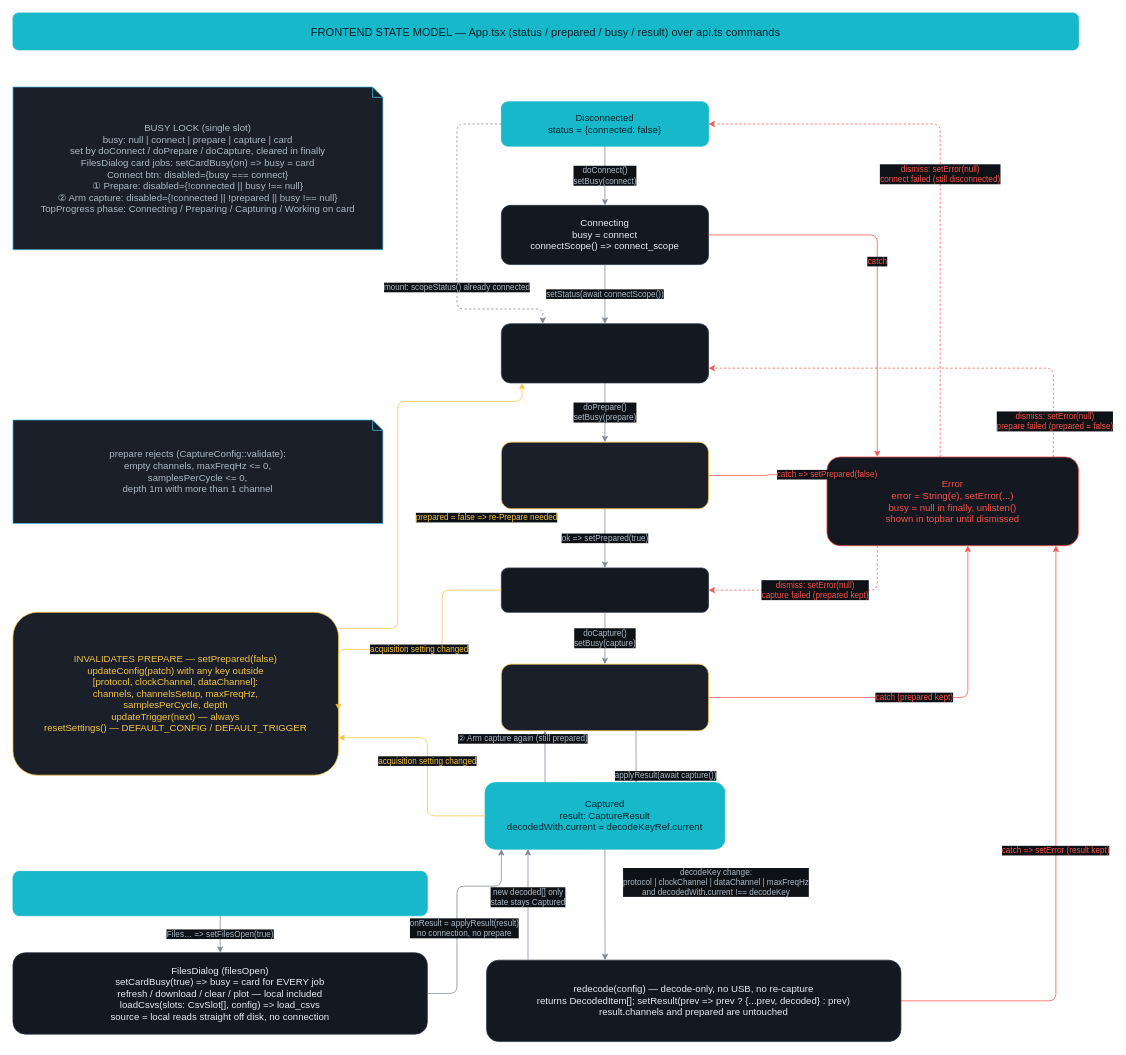
The diagram is 1126 pixels wide and 1055 high, and some of its shapes have lost their labels. Each missing label, with the centre of its shape:
"Capturing busy = capture capture() => capture cmd onProgress(capture:progress)" goes at (605,697).
"Connected status.connected = true prepared = false" goes at (605,353).
"Prepared prepared = true" goes at (605,589).
"Preparing busy = prepare prepare(config, trigger) onProgress(prepare:progress)" goes at (605,475).
"Saved CSVs (no scope needed) local paths, or card files" goes at (219,893).
